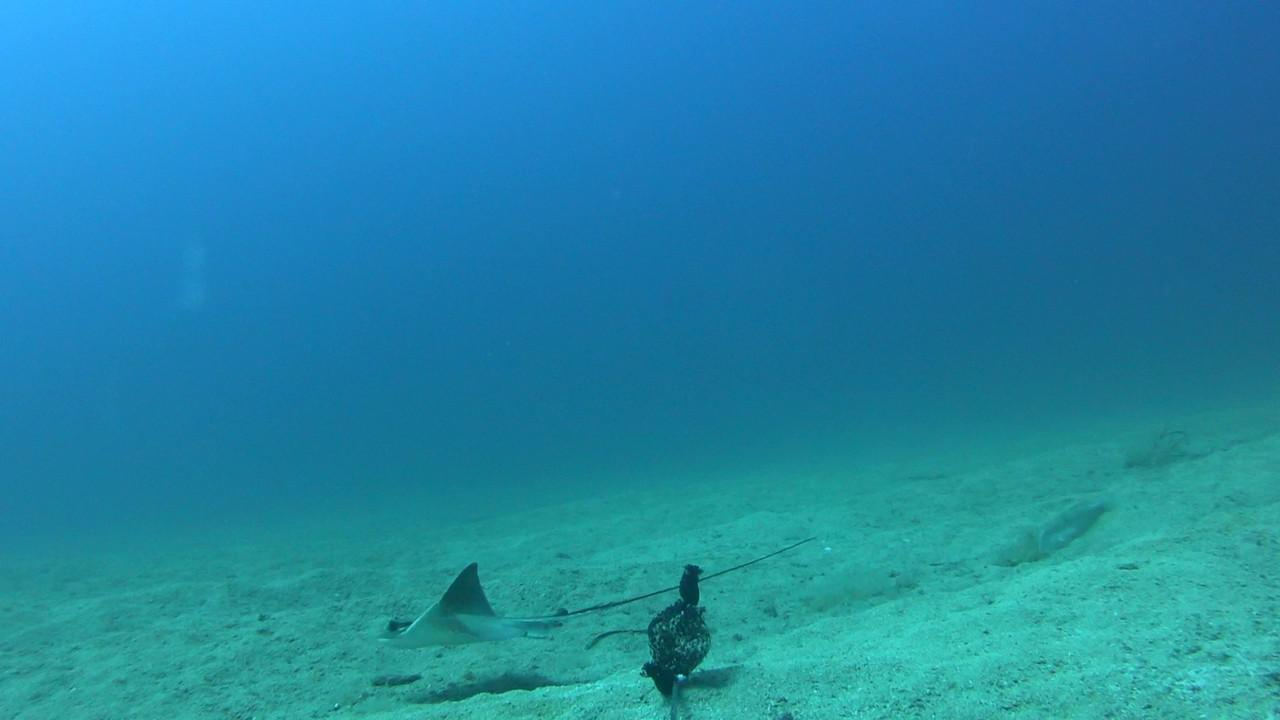myliobatis: (339, 507, 850, 650)
raor: (1039, 489, 1117, 557)
